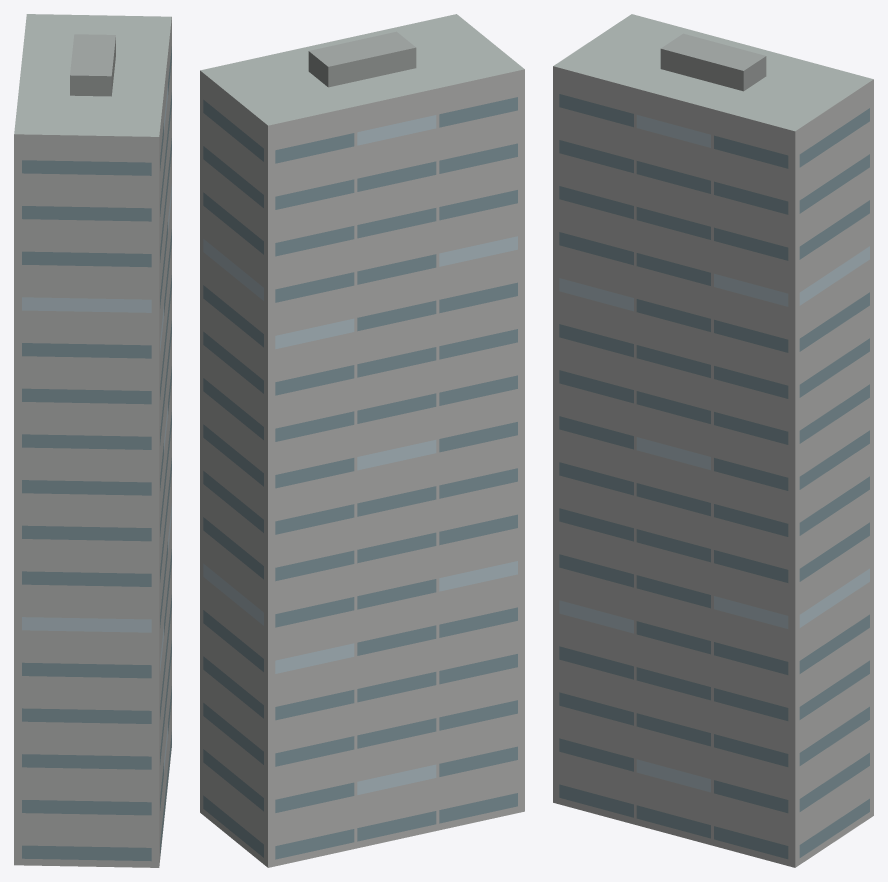
Rendered from fallback-jamsil-parkrio-303.glb.
3 views of the same model, side by side, from view 1: azimuth 30°, elevation 25°; view 2: azimuth 150°, elevation 25°; view 3: azimuth 270°, elevation 25° (orthographic).
Visible parts, largest first — view 1: fallback-jamsil-parkrio-303; view 2: fallback-jamsil-parkrio-303; view 3: fallback-jamsil-parkrio-303.
Boxes of the visible parts, x1=… form: fallback-jamsil-parkrio-303: x1=14, y1=14, x2=171, y2=867; fallback-jamsil-parkrio-303: x1=200, y1=14, x2=524, y2=867; fallback-jamsil-parkrio-303: x1=553, y1=14, x2=873, y2=867.
Size of the model in its own units: 29.6 by 89 by 34.18.
